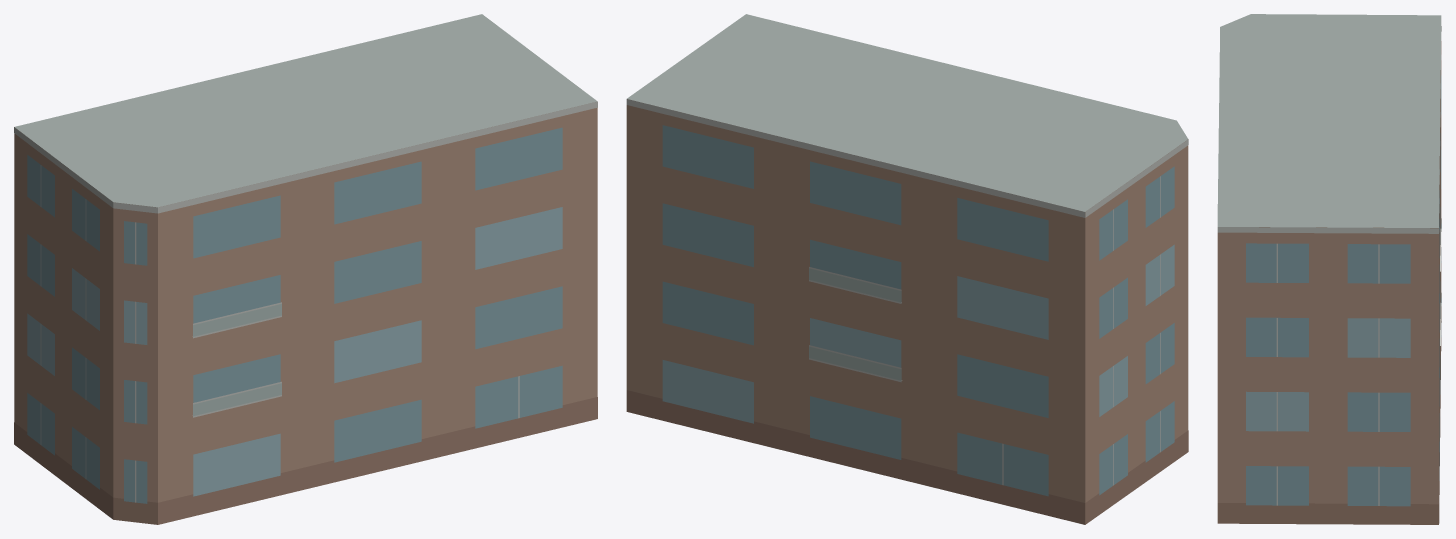
File: survey-upis-32963233.glb
3 renders of one model, left to right at view 1: azimuth 30°, elevation 25°; view 2: azimuth 150°, elevation 25°; view 3: azimuth 270°, elevation 25°, orthographic. The views are drawn at different scales.
Visible parts, largest first — view 1: survey-upis-32963233.tmp; view 2: survey-upis-32963233.tmp; view 3: survey-upis-32963233.tmp.
Boxes of the visible parts, box(x1,y1,x2,y2) form: survey-upis-32963233.tmp: box(14, 14, 597, 524); survey-upis-32963233.tmp: box(626, 14, 1188, 524); survey-upis-32963233.tmp: box(1217, 14, 1441, 524).
Size of the model in its own units: 19.43 by 12.55 by 8.59.
